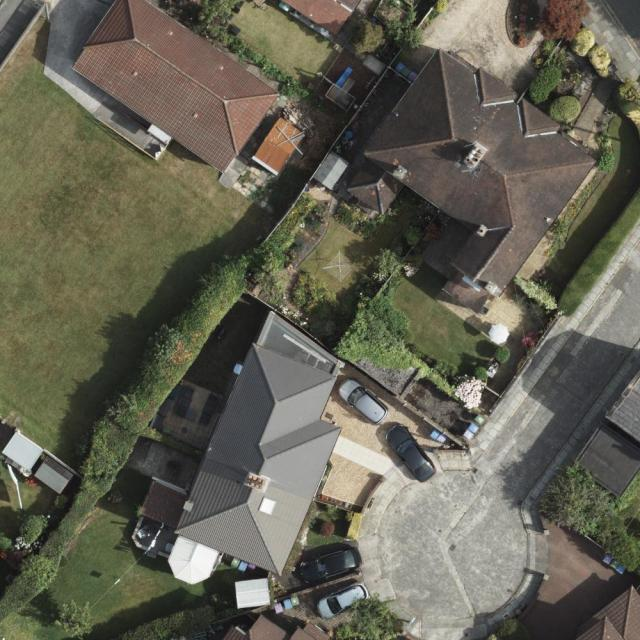roof: (346, 46, 597, 300), (143, 311, 344, 584), (73, 0, 283, 173), (572, 365, 640, 500), (565, 585, 640, 640), (279, 0, 362, 36), (220, 617, 331, 640)
skylight: (257, 496, 281, 519)
